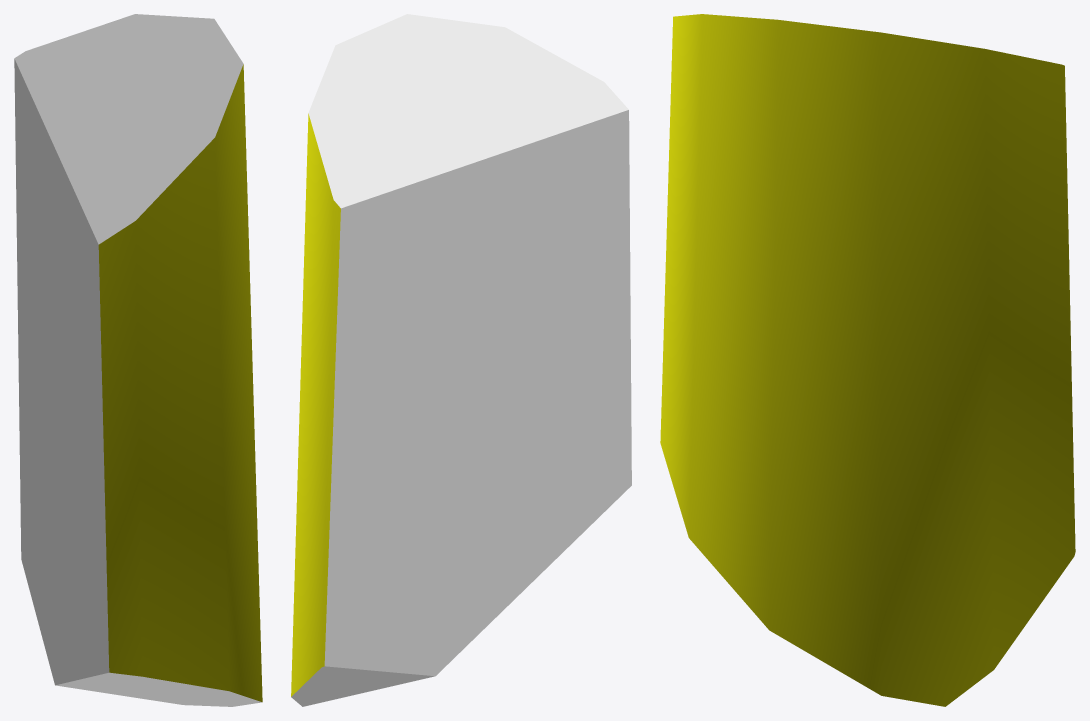
File: mdl_ciudadela_casa_pilar1_fracturepart8.fbx
3 renders of one model, left to right at view 1: azimuth 30°, elevation 25°; view 2: azimuth 150°, elevation 25°; view 3: azimuth 270°, elevation 25°, orthographic. The views are drawn at different scales.
Parts seen in each view (by area): view 1: mdl_ciudadela_casa_pilar1_fracturepart8; view 2: mdl_ciudadela_casa_pilar1_fracturepart8; view 3: mdl_ciudadela_casa_pilar1_fracturepart8.
Boxes of the visible parts, box(x1,y1,x2,y2) form: mdl_ciudadela_casa_pilar1_fracturepart8: box(14, 14, 262, 706); mdl_ciudadela_casa_pilar1_fracturepart8: box(291, 14, 631, 706); mdl_ciudadela_casa_pilar1_fracturepart8: box(660, 14, 1075, 706).
Bounding box in the file's own units: 0.4238 × 1.21 × 0.674.
